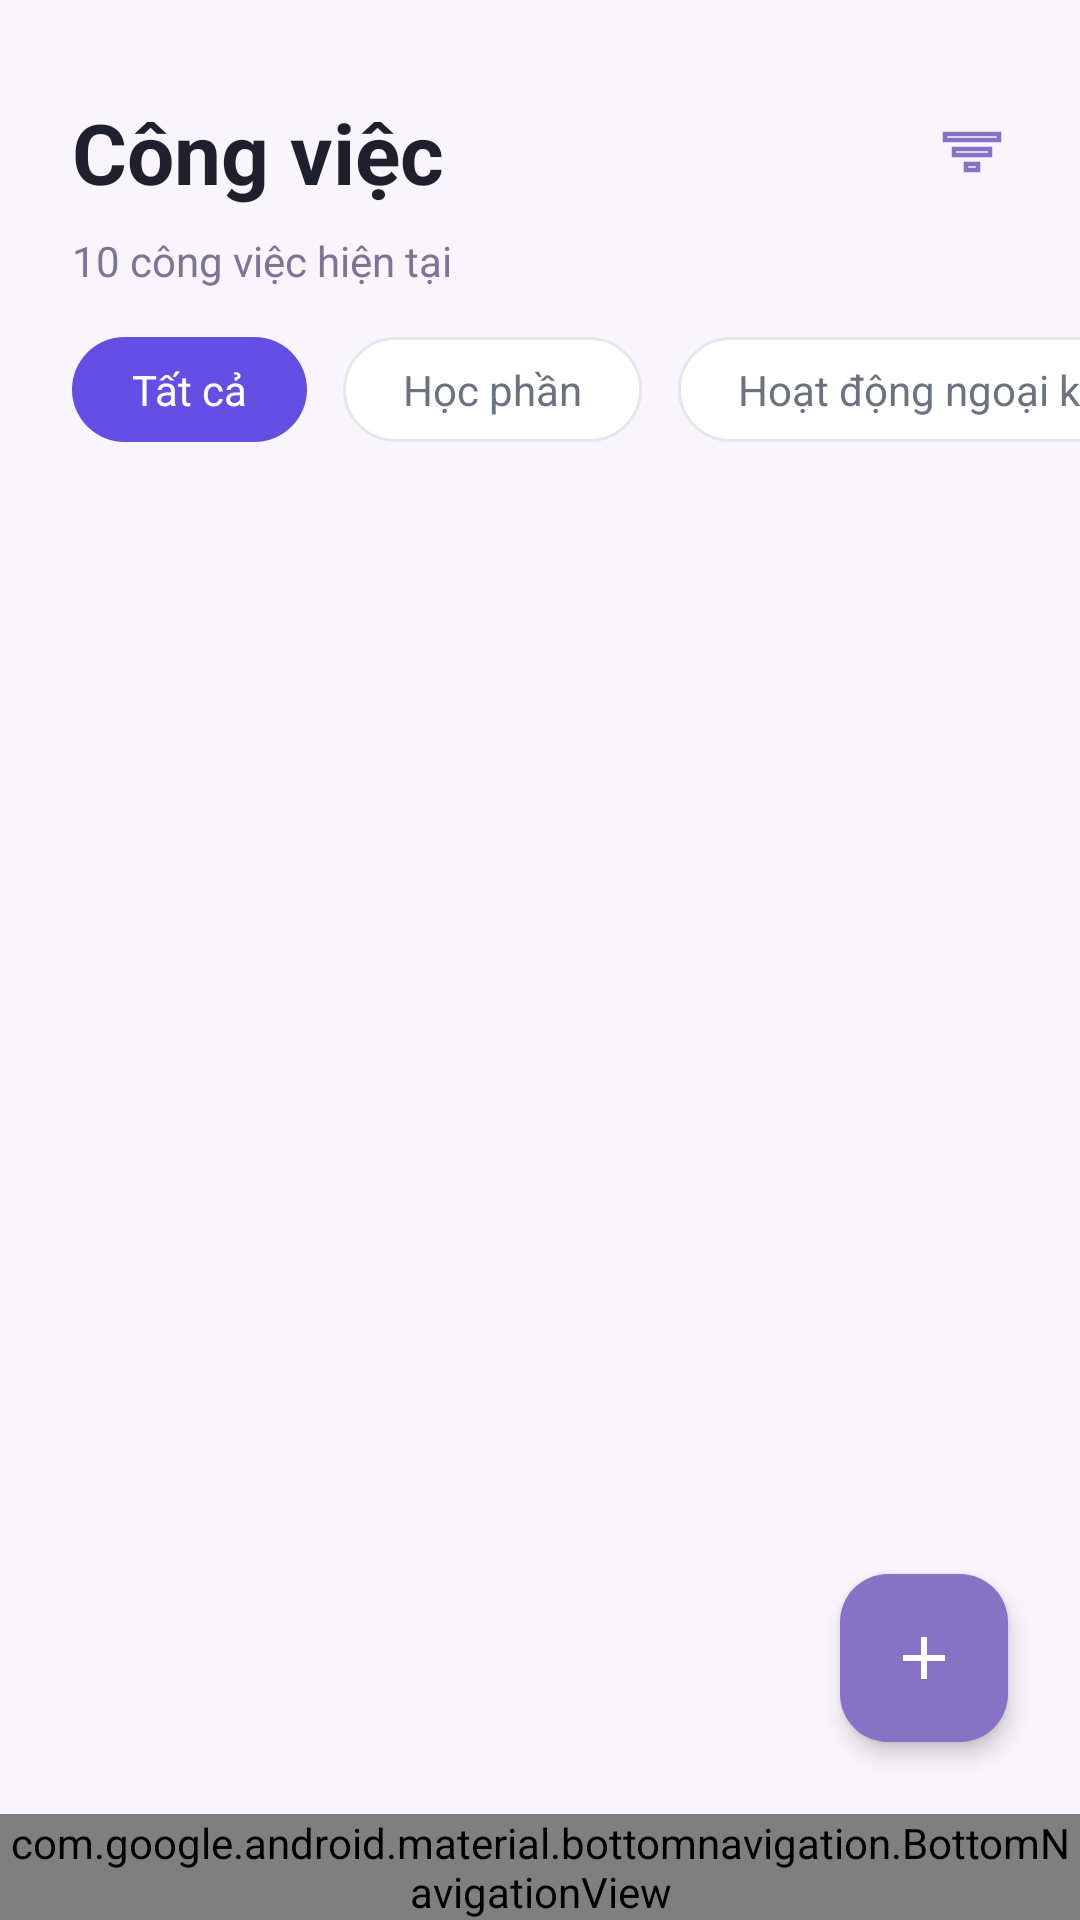

Icon bounding boxes for this 1080 × 1920 phone screenshot, format (x1, y1, x2, y2):
add: (840, 1574, 1008, 1742)
filter: (942, 131, 1002, 173)
